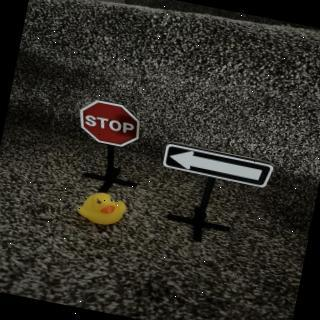duck_regular: (76, 190, 130, 231)
sign_oneway_left: (161, 142, 276, 192)
sign_stop: (75, 99, 145, 155)
